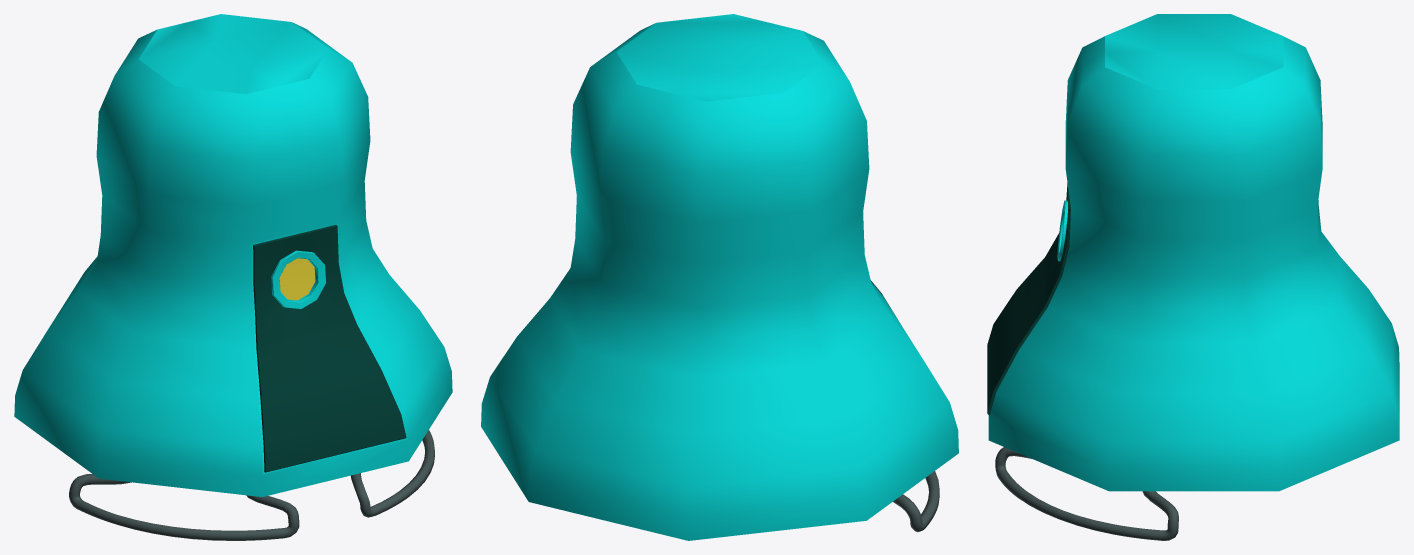
The model's file is mdlVessel.fbx.
3 views of the same model, side by side, from view 1: azimuth 30°, elevation 25°; view 2: azimuth 150°, elevation 25°; view 3: azimuth 270°, elevation 25° (orthographic). The views are drawn at different scales.
Parts seen in each view (by area): view 1: mdlVessel; view 2: mdlVessel; view 3: mdlVessel.
Boxes of the visible parts, left/top/right/bottom form: mdlVessel: left=14, top=14, right=452, bottom=540; mdlVessel: left=481, top=14, right=958, bottom=540; mdlVessel: left=987, top=14, right=1399, bottom=540.
Bounding box in the file's own units: 1.48 × 1.61 × 1.48.
